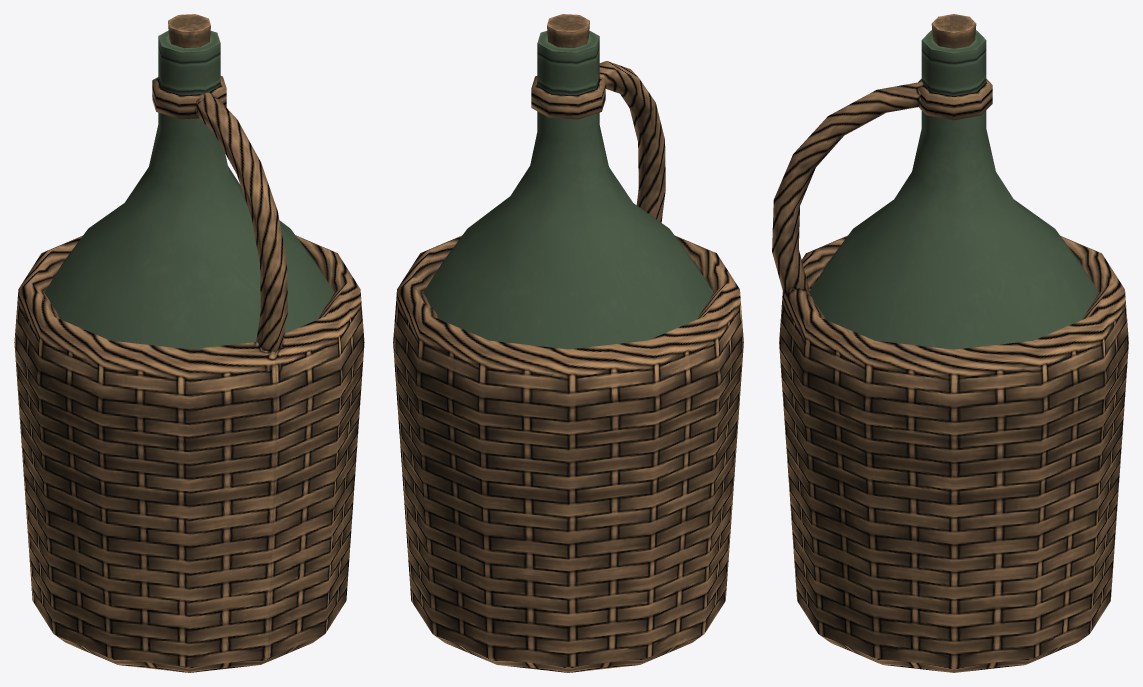
File: LOD1_wickerBigBottle_closed.fbx
3 views of the same model, side by side, from view 1: azimuth 30°, elevation 25°; view 2: azimuth 150°, elevation 25°; view 3: azimuth 270°, elevation 25° (orthographic).
Visible parts, largest first — view 1: LOD1_wickerBigBottle_closed; view 2: LOD1_wickerBigBottle_closed; view 3: LOD1_wickerBigBottle_closed.
Part boxes in pixels (x1,y1,x2,y2): LOD1_wickerBigBottle_closed: [14, 14, 364, 672]; LOD1_wickerBigBottle_closed: [393, 14, 743, 672]; LOD1_wickerBigBottle_closed: [772, 14, 1128, 672].
Size of the model in its own units: 0.2261 by 0.42 by 0.2306.
